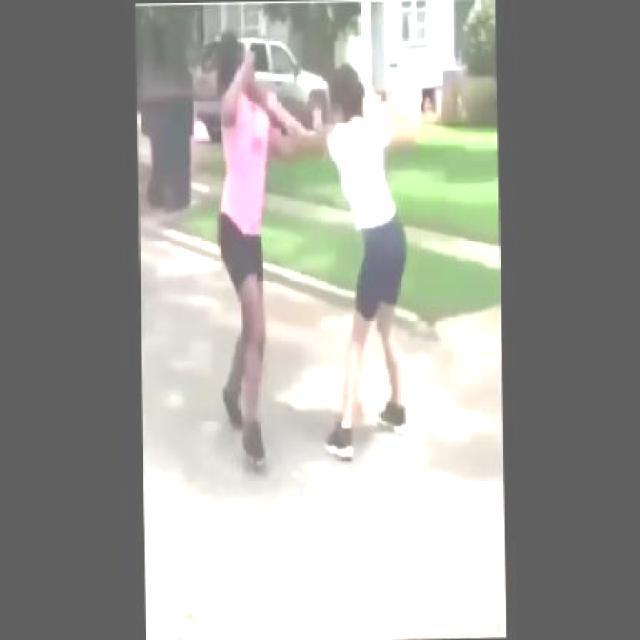fight: (214, 22, 417, 467)
